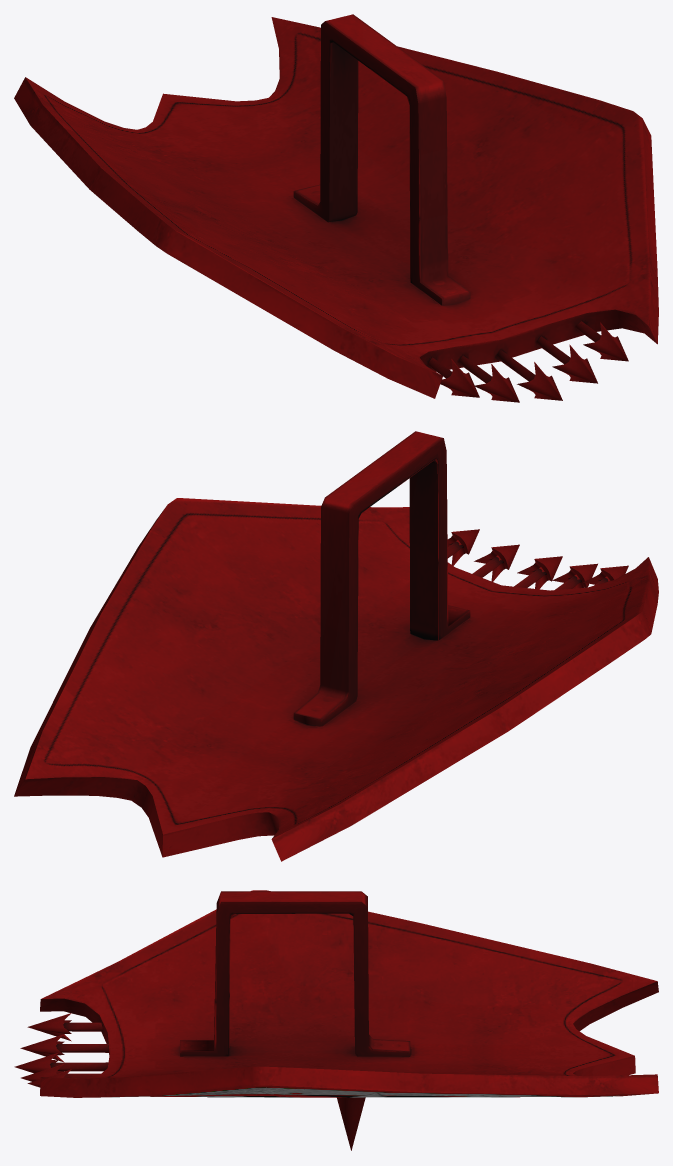
Rendered from shield.obj.
3 renders of one model, top to bottom at view 1: azimuth 30°, elevation 25°; view 2: azimuth 150°, elevation 25°; view 3: azimuth 270°, elevation 25°, orthographic. The views are drawn at different scales.
Visible parts, largest first — view 1: SMDImport; view 2: SMDImport; view 3: SMDImport.
Part boxes in pixels (bbox=[...]): SMDImport: bbox=[14, 14, 658, 402]; SMDImport: bbox=[14, 431, 658, 861]; SMDImport: bbox=[14, 890, 658, 1150].
Bounding box in the file's own units: 19.47 × 12.5 × 28.66.
